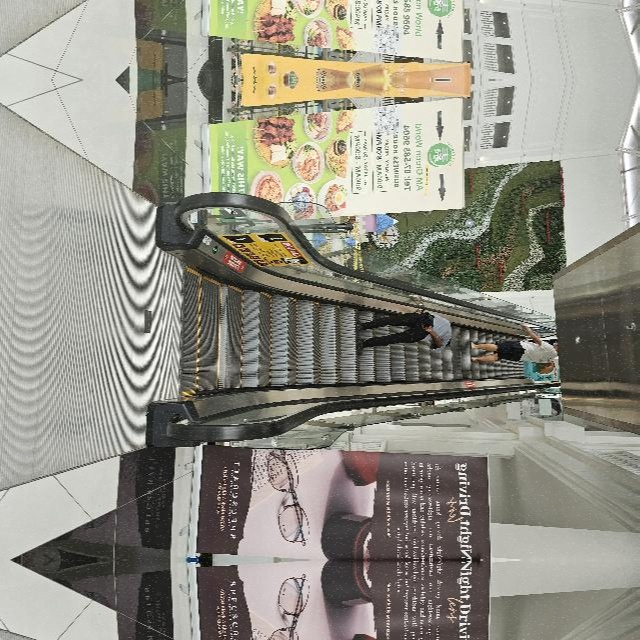obstacle: (160, 237, 306, 539), (528, 223, 640, 559), (529, 561, 640, 640), (160, 581, 306, 640)
person: (390, 267, 436, 363), (402, 160, 443, 250)
stair: (354, 187, 486, 544), (354, 575, 486, 640)
